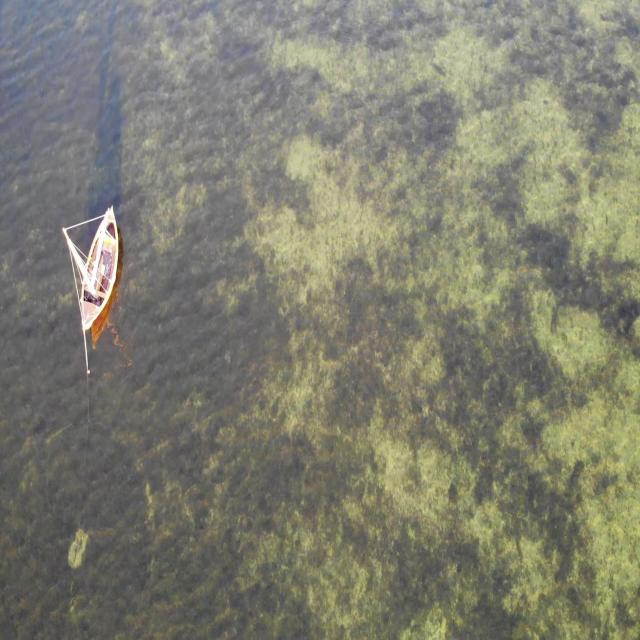sailboat: (62, 203, 120, 331)
